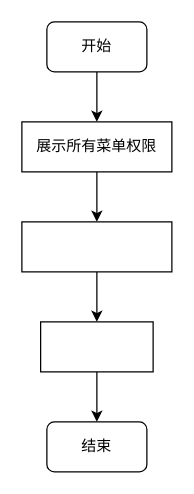
The diagram is 194 pixels wide and 494 high, and some of its shapes have lost their labels. Each missing label, with the centre of its shape:
保存: the point at 96,346
勾选菜单权限: the point at 96,246
